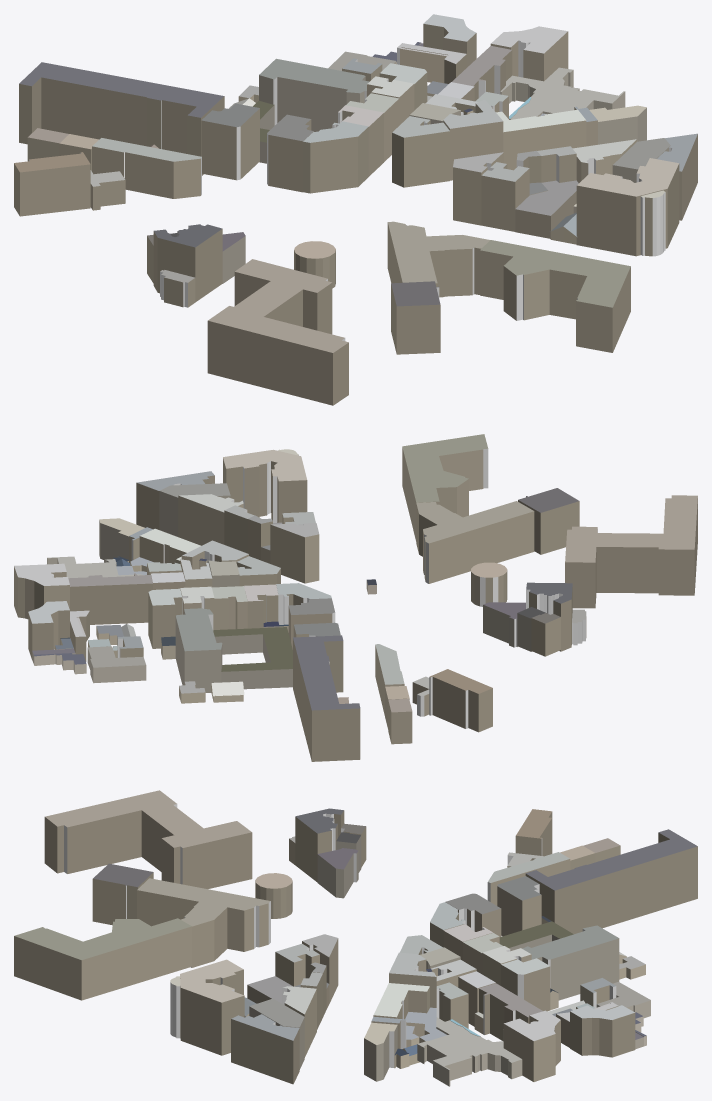
3 renders of one model, top to bottom at view 1: azimuth 30°, elevation 25°; view 2: azimuth 150°, elevation 25°; view 3: azimuth 270°, elevation 25°, orthographic. The views are drawn at different scales.
Parts seen in each view (by area): view 1: tuile; view 2: tuile; view 3: tuile.
Boxes of the visible parts, x1,y1,x2,y2 form: tuile: (14,14,697,405); tuile: (14,434,697,761); tuile: (14,790,697,1086).
Size of the model in its own units: 275 by 29.1 by 315.
